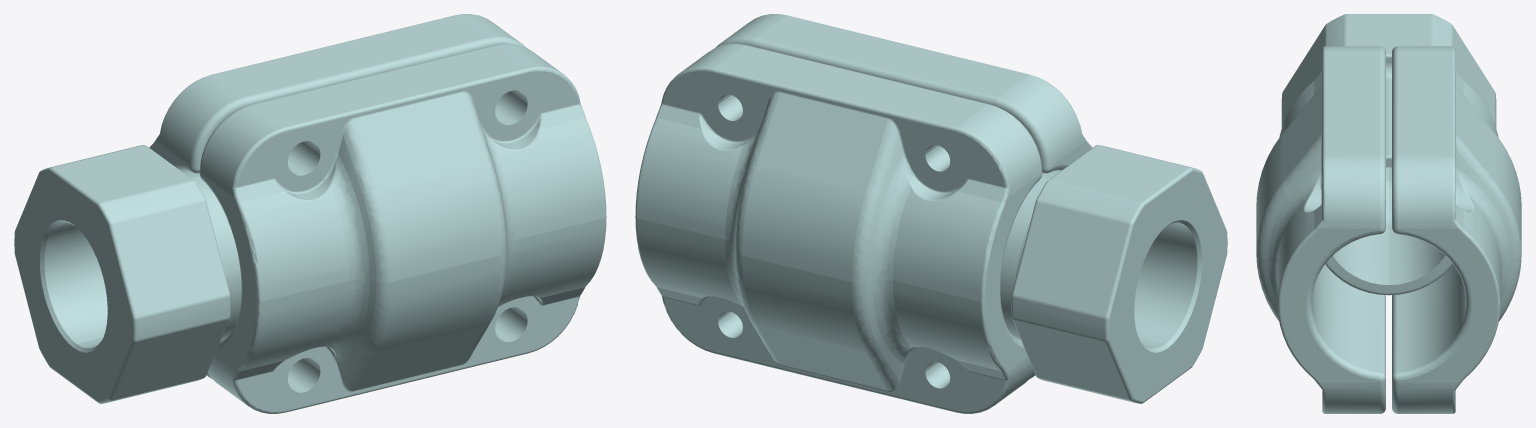
3 views of the same model, side by side, from view 1: azimuth 30°, elevation 25°; view 2: azimuth 150°, elevation 25°; view 3: azimuth 270°, elevation 25° (orthographic). The views are drawn at different scales.
Size of the model in its own units: 79.57 by 46 by 43.8.
